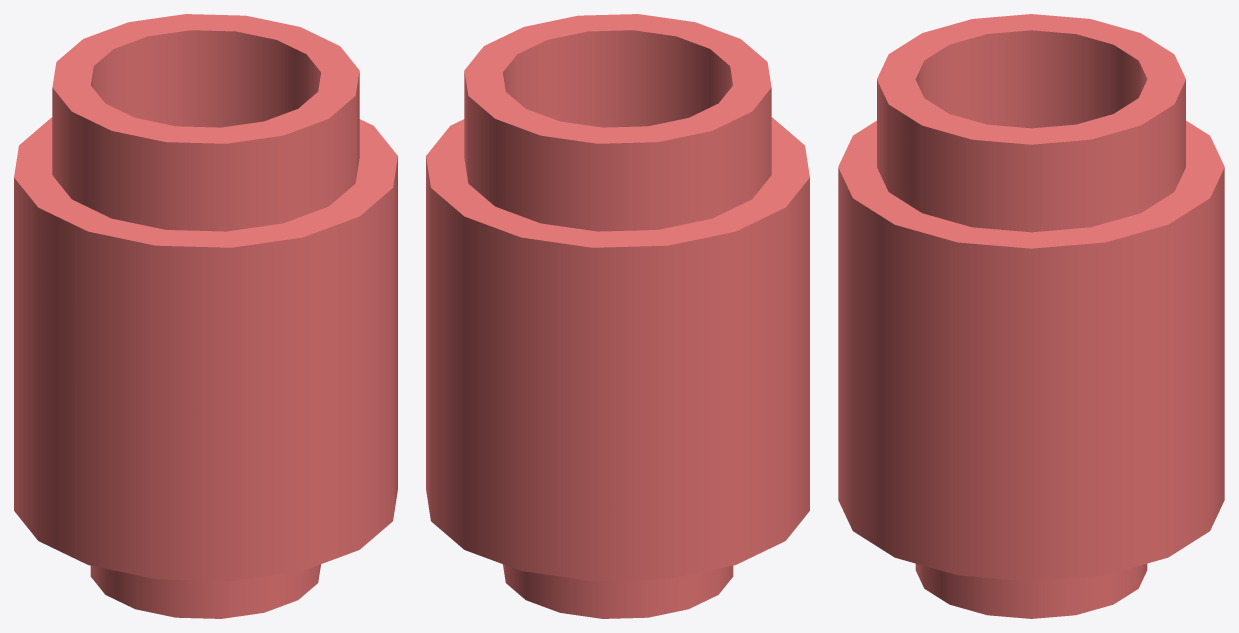
3 renders of one model, left to right at view 1: azimuth 30°, elevation 25°; view 2: azimuth 150°, elevation 25°; view 3: azimuth 270°, elevation 25°, orthographic.
Parts seen in each view (by area): view 1: LDrawPart; view 2: LDrawPart; view 3: LDrawPart.
Boxes of the visible parts, bbox=[...] form: LDrawPart: bbox=[14, 14, 397, 618]; LDrawPart: bbox=[426, 14, 809, 618]; LDrawPart: bbox=[838, 14, 1224, 618].
Size of the model in its own units: 0.14 by 0.196 by 0.14.
